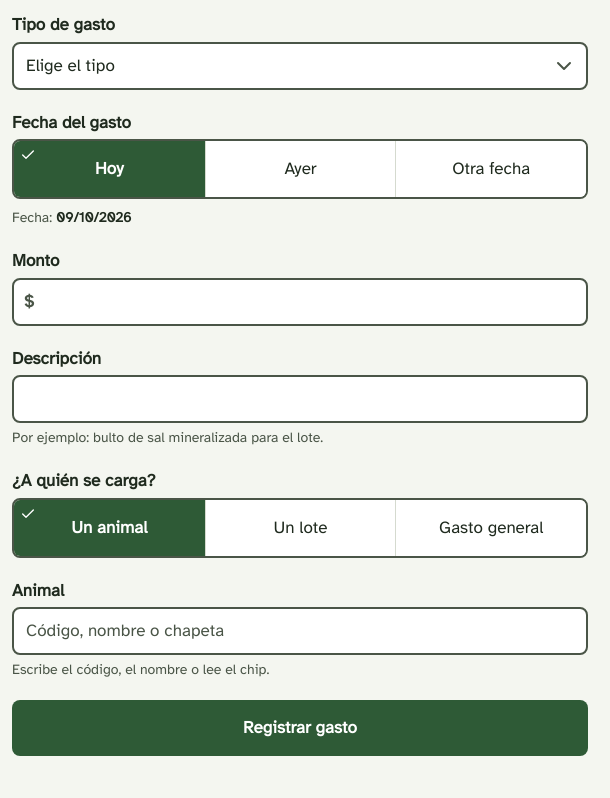
Scenario: Registrar gasto (ECO-01, ECO-02) › a un animal sin elegirlo: el error queda en el campo del animal
This screenshot has width=610, height=798.
Step 1. Select "Veterinario" in the dropdown labelled "Tipo de gasto" → (300, 66), box x1=12 y1=42 x2=588 y2=90
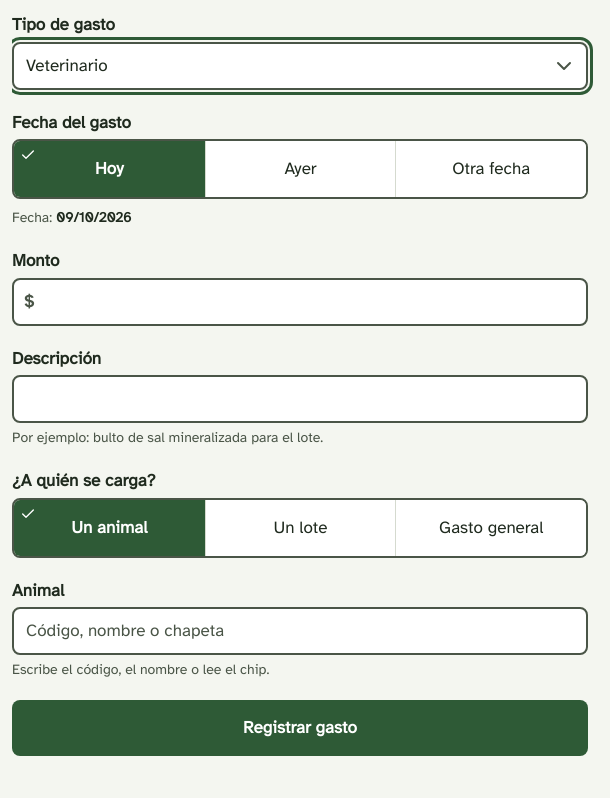
Step 2. Type "120000" into the field labelled "Monto" → (300, 302), box x1=12 y1=278 x2=588 y2=326
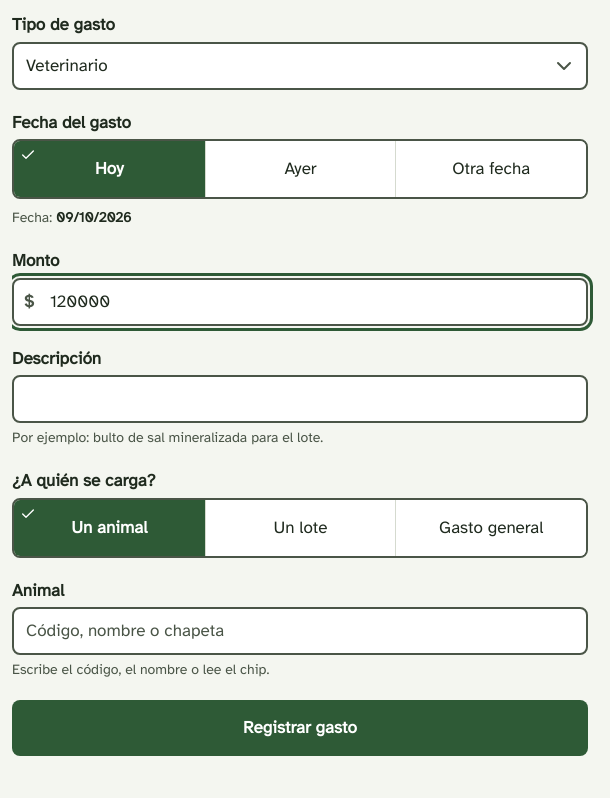
Step 3. Type "Visita del veterinario" into the field labelled "Descripción" → (300, 399), box x1=12 y1=375 x2=588 y2=423
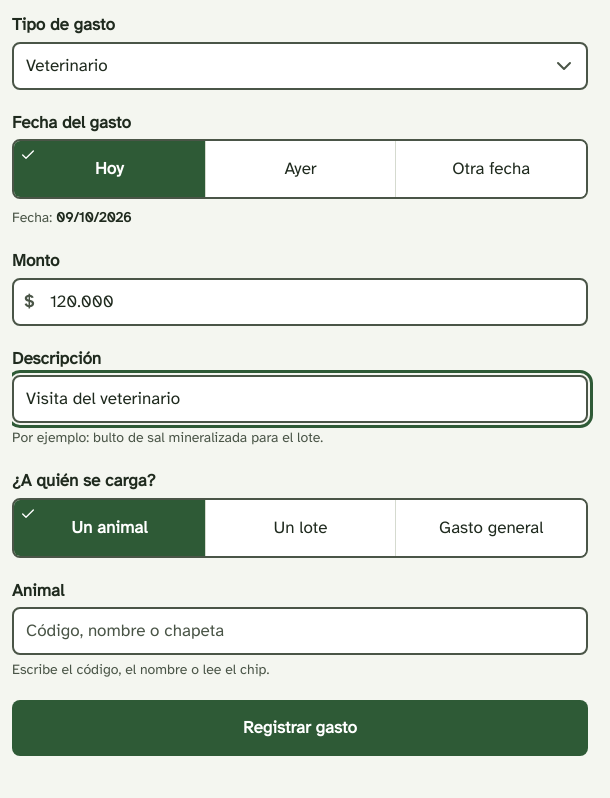
Step 4. Click the button "Registrar gasto" → (300, 728), box x1=12 y1=700 x2=588 y2=756
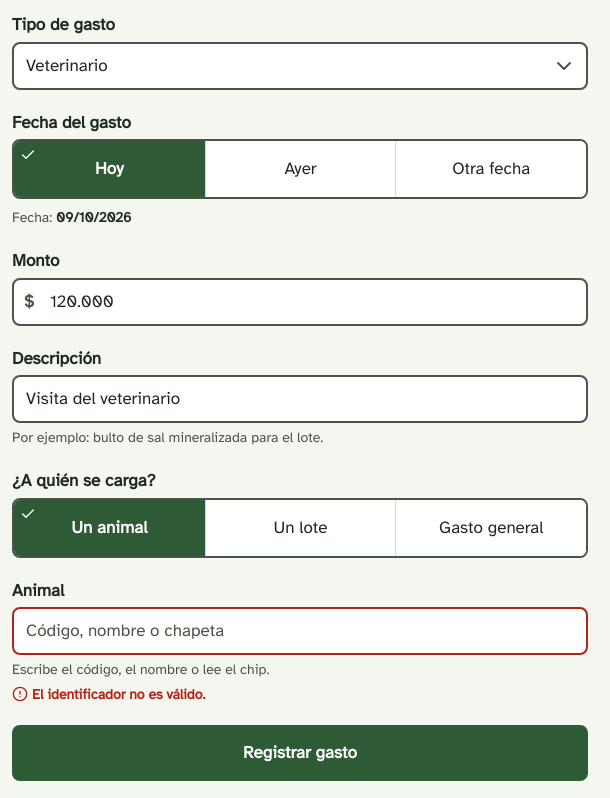
Now the text "El identificador no es válido." is shown, box x1=12 y1=686 x2=205 y2=703
